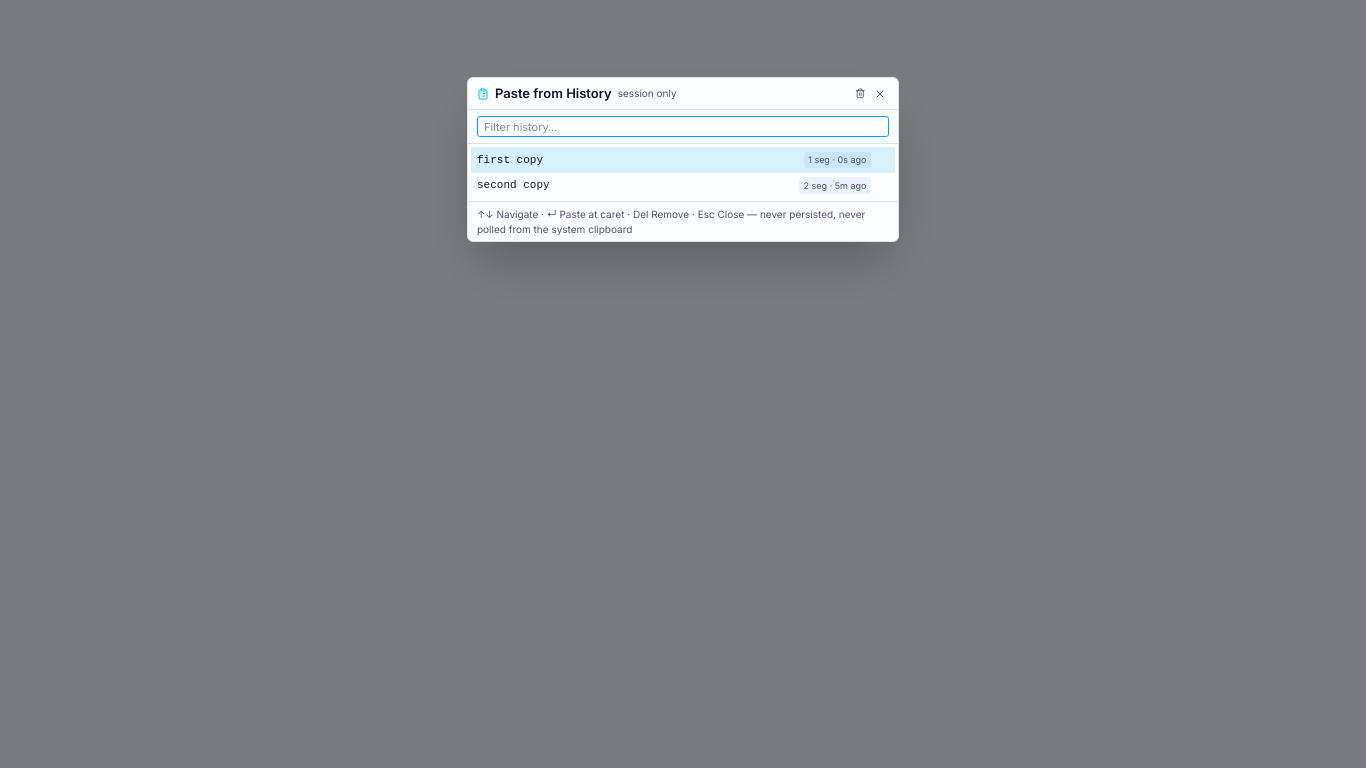
Test: §8.19.5 ClipboardHistoryPopup › filters by query and shows the honest empty state
The image size is (1366, 768).
Type "first" into the dropdown with test id "clipboard-history-search" at (683, 127), box [477,116,889,137]
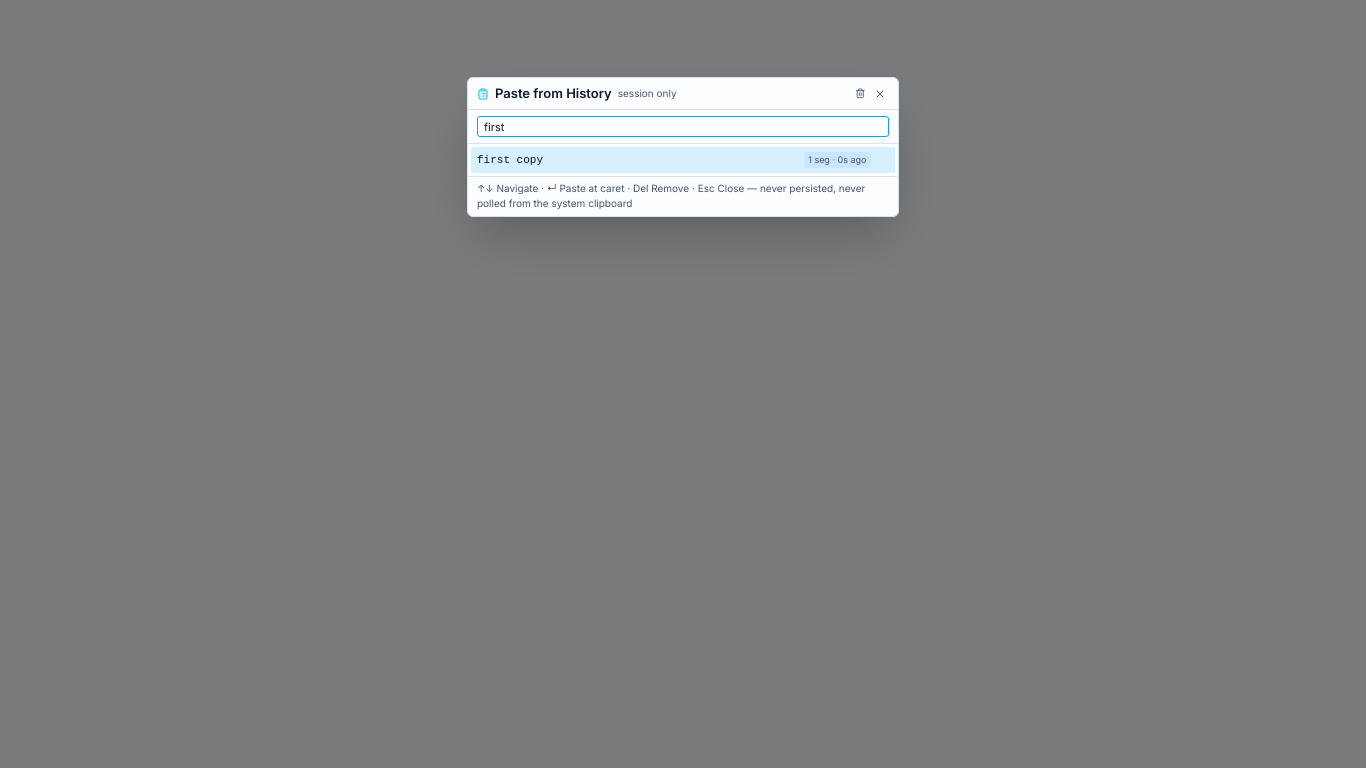
Expected: the option with test id "clipboard-history-entry-0" is shown, [471,147,895,173]
Result: the option with test id "clipboard-history-entry-1" is gone
Replace the text in the dropdown with test id "clipboard-history-search" with "zzz" at (683, 127), box [477,116,889,137]
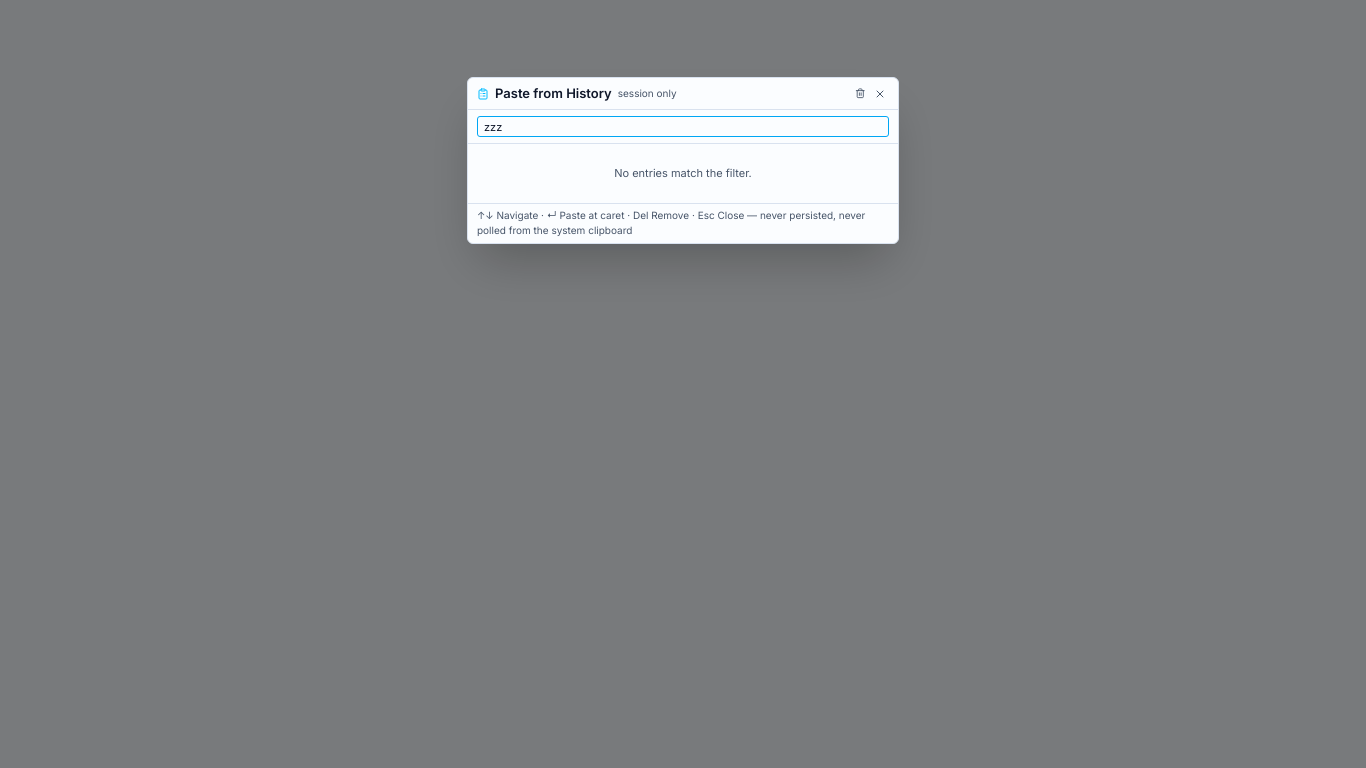
Result: the text with test id "clipboard-history-empty" shows "No entries match" at [614,166,752,180]
